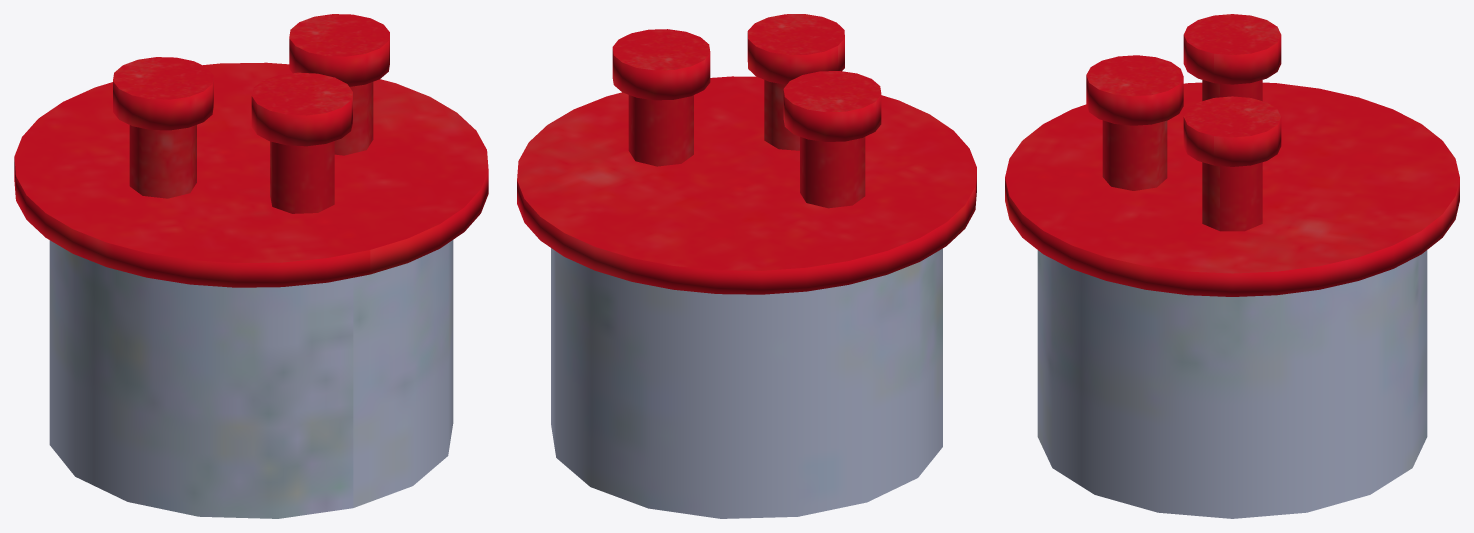
Rendered from refuel-area-tank-top-cbj_LOD00.gltf.
The picture shows the model from 3 angles, left to right: view 1: azimuth 30°, elevation 25°; view 2: azimuth 150°, elevation 25°; view 3: azimuth 270°, elevation 25°; orthographic projection. The views are drawn at different scales.
Visible parts, largest first — view 1: Cube; view 2: Cube; view 3: Cube.
Part boxes in pixels (x1,y1,x2,y2): Cube: [14, 14, 488, 518]; Cube: [517, 14, 976, 518]; Cube: [1005, 14, 1459, 518].
Size of the model in its own units: 1.4 by 1.23 by 1.4.
